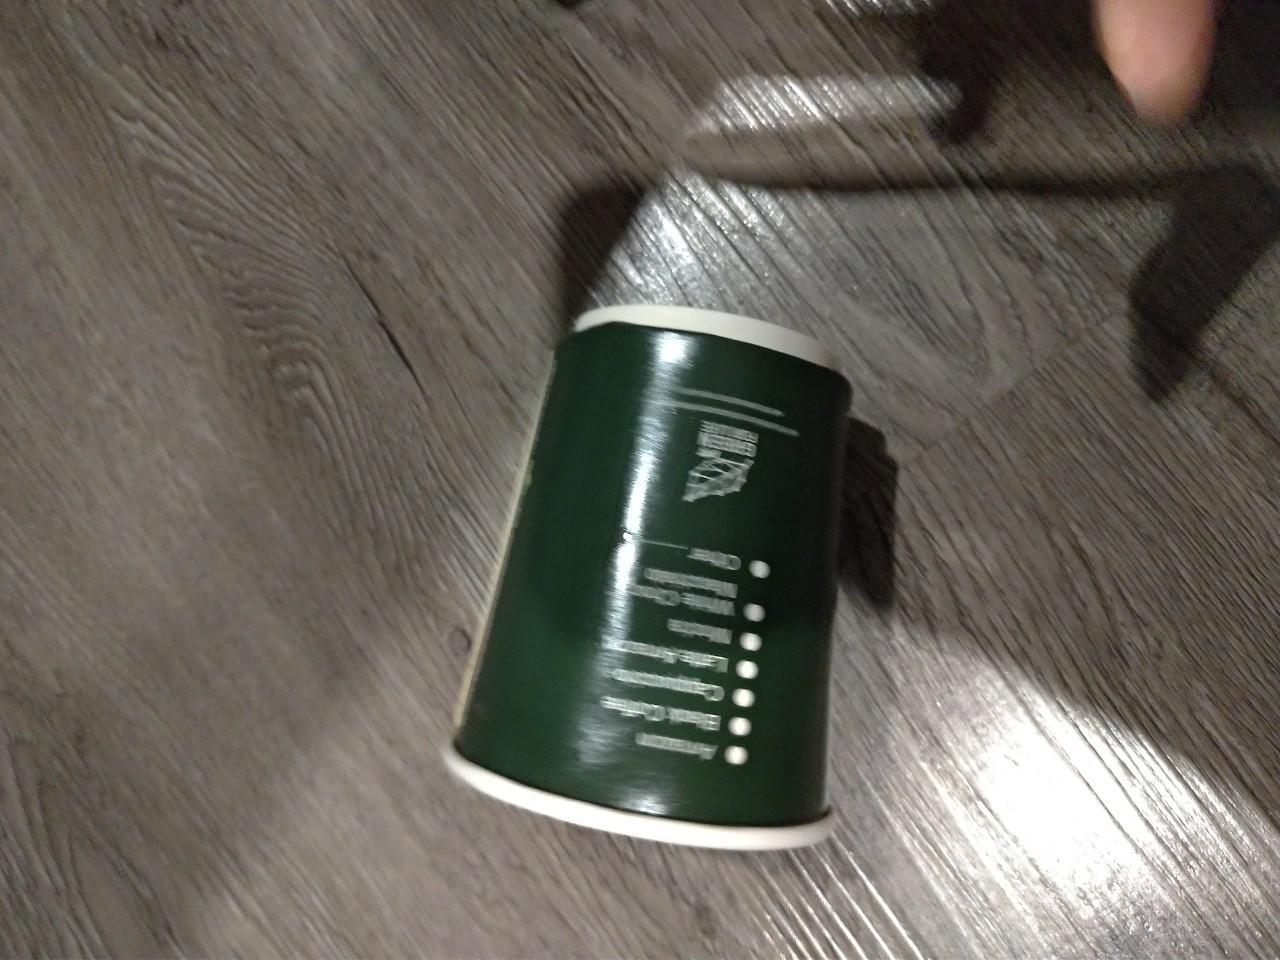PaperCup: (433, 312, 857, 867)
